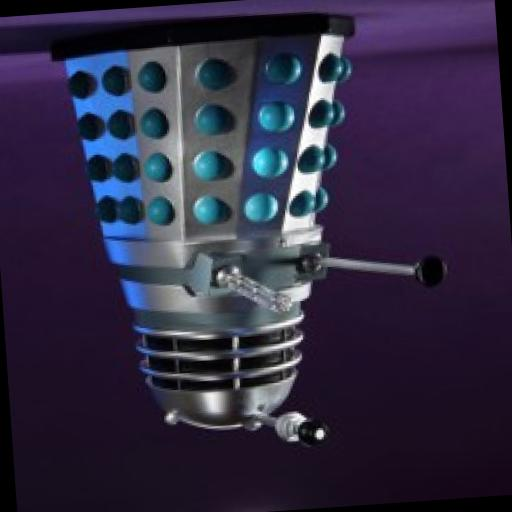dalek: (42, 0, 471, 477)
